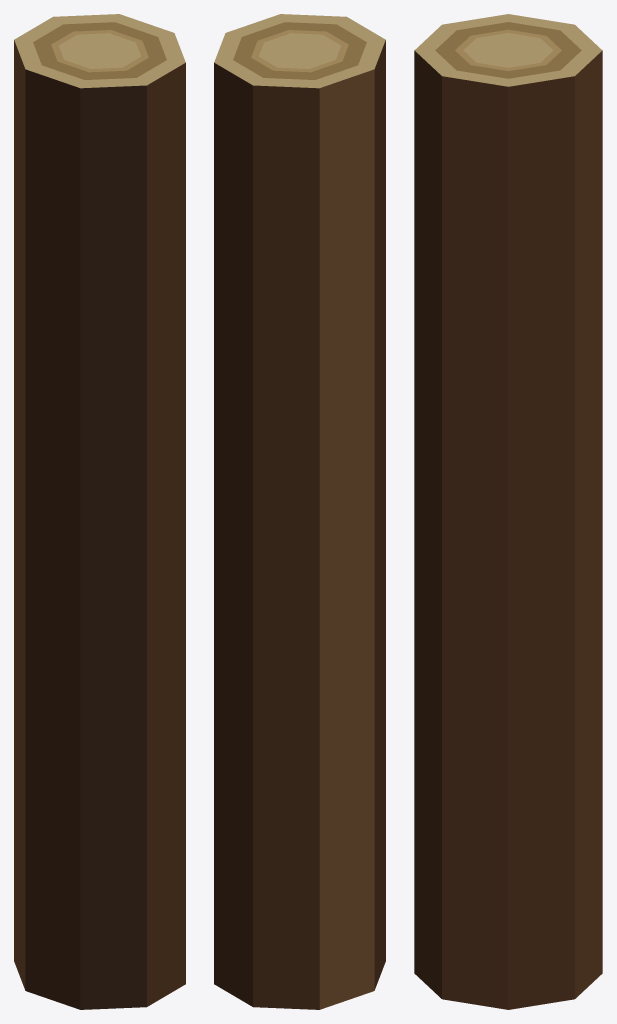
File: log_fence.glb
The picture shows the model from 3 angles, left to right: view 1: azimuth 30°, elevation 25°; view 2: azimuth 150°, elevation 25°; view 3: azimuth 270°, elevation 25°; orthographic projection.
Visible parts, largest first — view 1: post; view 2: post; view 3: post.
Boxes of the visible parts, box(x1,y1,x2,y2) form: post: box(14, 14, 185, 1009); post: box(214, 14, 385, 1009); post: box(414, 14, 602, 1009).
Bounding box in the file's own units: 0.22 × 1.3 × 0.24.
